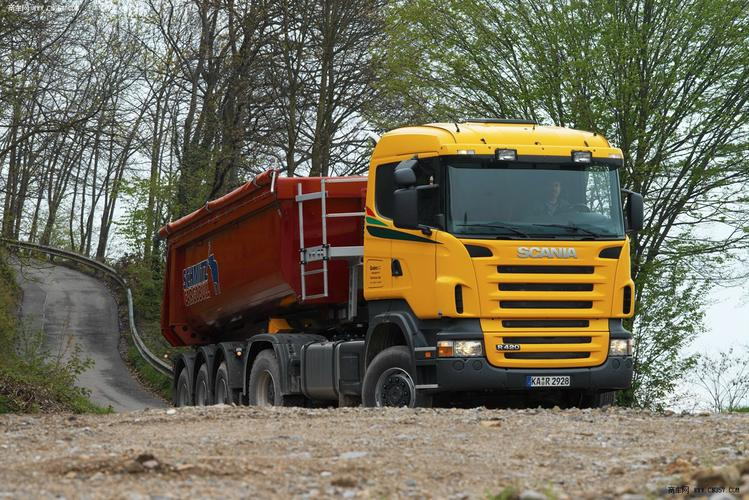卡车: (136, 113, 643, 411)
